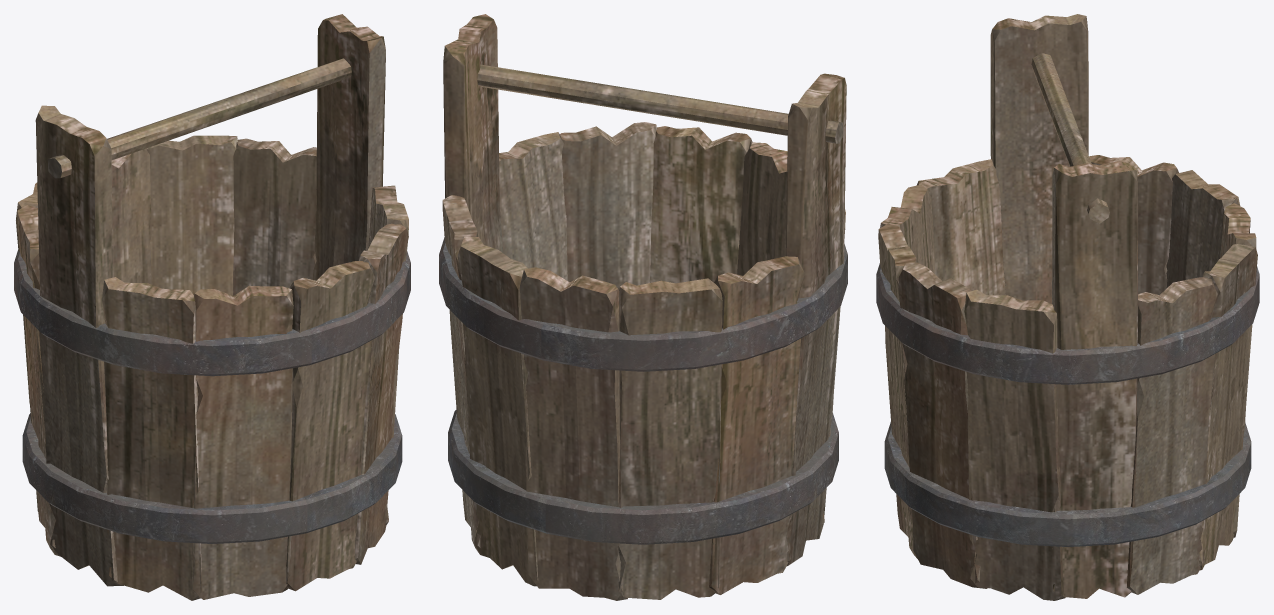
Rendered from SM_Bucket_01.fbx.
3 renders of one model, left to right at view 1: azimuth 30°, elevation 25°; view 2: azimuth 150°, elevation 25°; view 3: azimuth 270°, elevation 25°, orthographic. The views are drawn at different scales.
Parts seen in each view (by area): view 1: SM_Bucket_01_LOD0; view 2: SM_Bucket_01_LOD0; view 3: SM_Bucket_01_LOD0.
Part boxes in pixels (box(x1,y1,x2,y2)): SM_Bucket_01_LOD0: box(14, 14, 410, 600); SM_Bucket_01_LOD0: box(439, 14, 847, 600); SM_Bucket_01_LOD0: box(876, 14, 1259, 600).
Size of the model in its own units: 36.22 by 35.45 by 44.9.
